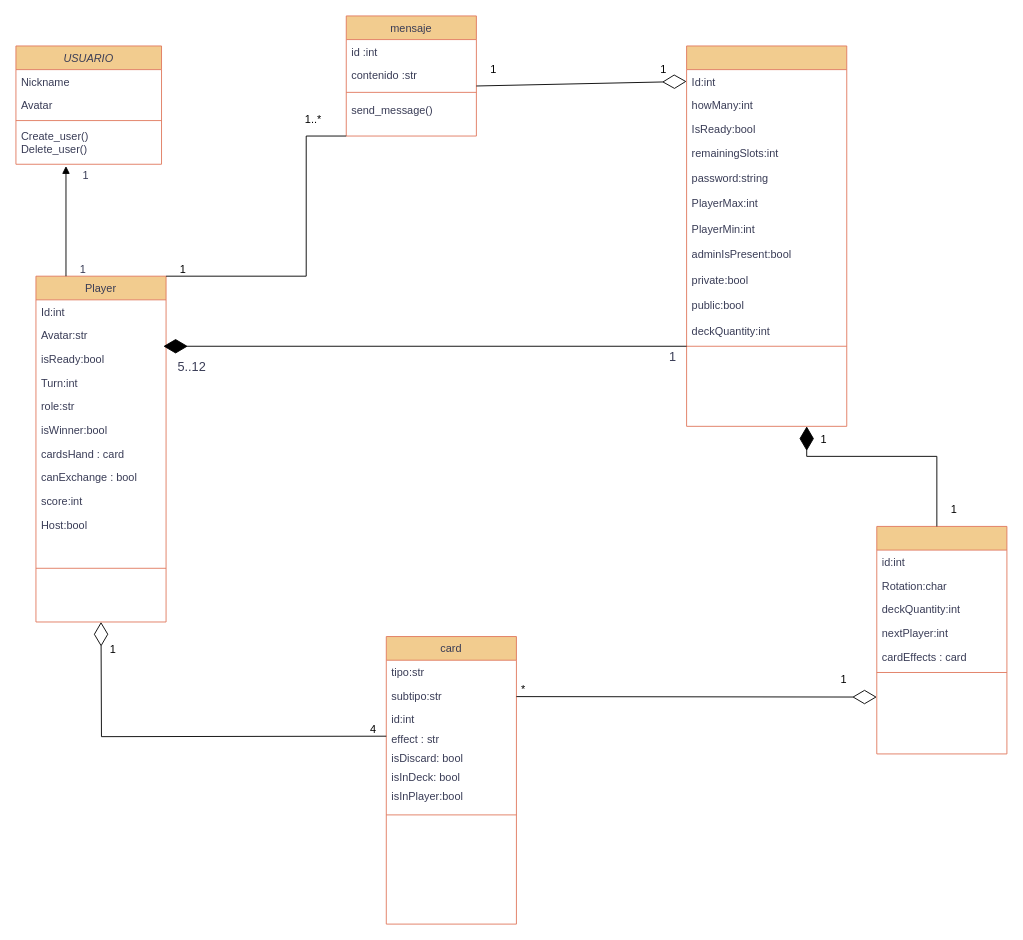
Image size: 1023x940. Some labels were removed from this diagram. Each missing label, with the box of its shape:
Lobby: (686, 45, 847, 426)
Match: (876, 526, 1007, 754)
